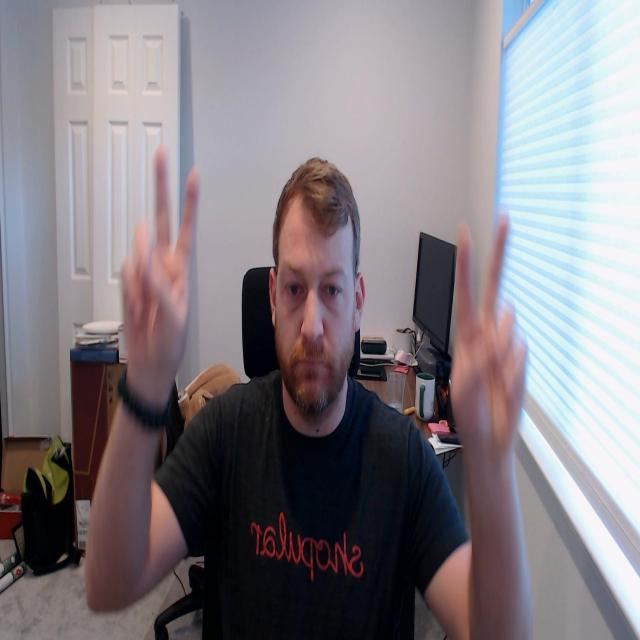face: (276, 222, 355, 421)
